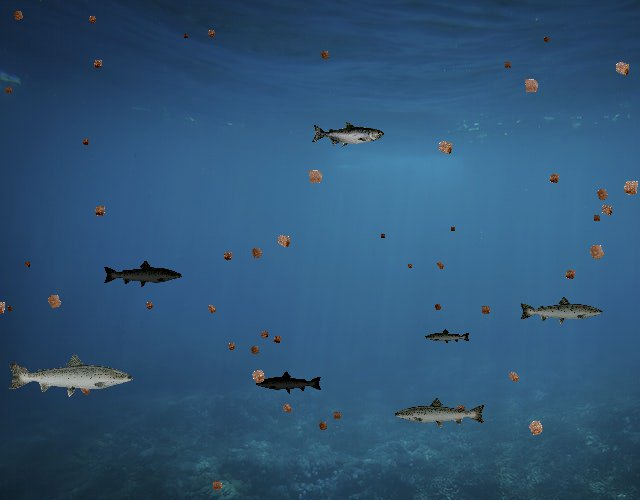Fish: (6, 352, 135, 398), (394, 396, 488, 430), (518, 295, 604, 326), (103, 259, 184, 289), (311, 122, 384, 148), (256, 370, 324, 394), (425, 328, 472, 345)
Pellet: (244, 363, 272, 391), (270, 228, 297, 255), (616, 172, 640, 202), (8, 5, 29, 26), (84, 12, 100, 28), (540, 33, 553, 46), (21, 259, 33, 271)
